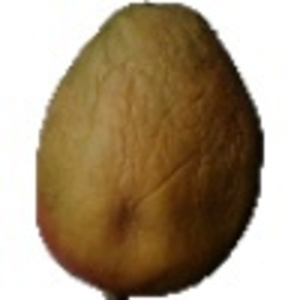mamão: (23, 4, 268, 295)
